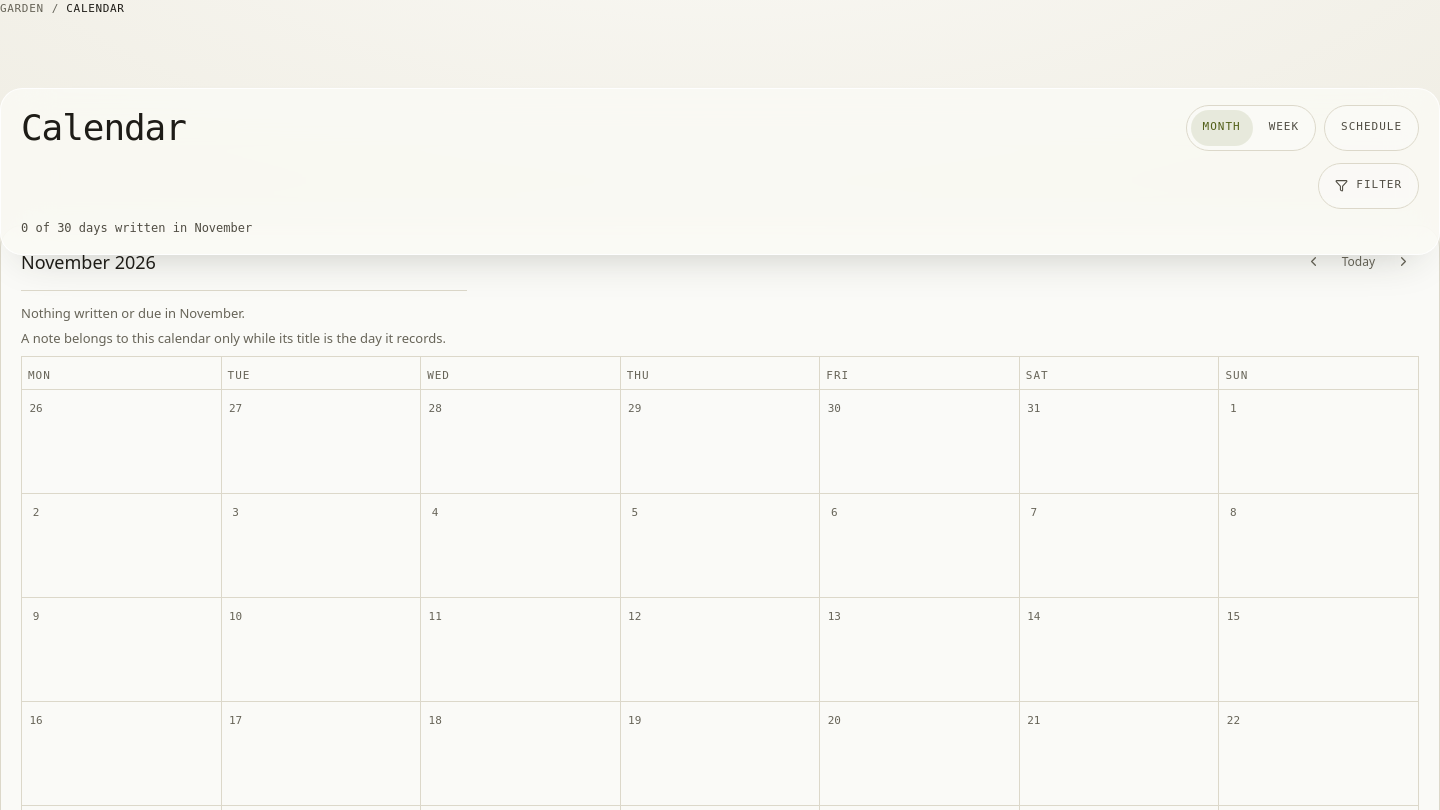
Test: CalendarPage — month › puts the chosen month in the URL
The width and height of the screenshot is (1440, 810).
expect the text "0 of 30 days written in November" is shown: met, box [21,219,252,238]
Click the button named "Previous month" at (1314, 262), box [1298,246,1330,278]
(page scrolled)
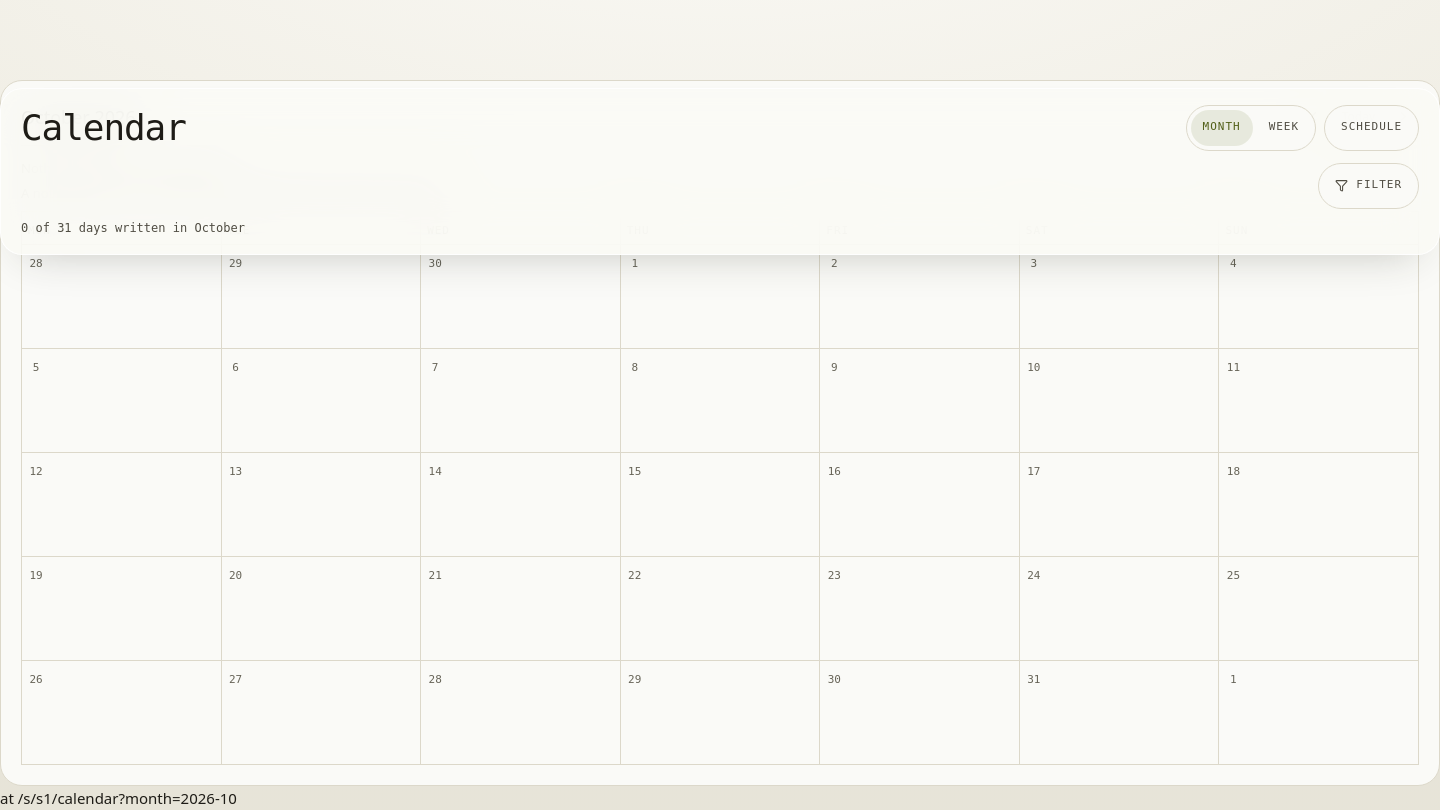
expect the text "at /s/s1/calendar?month=2026-10" is shown: met, box [0,788,237,808]
